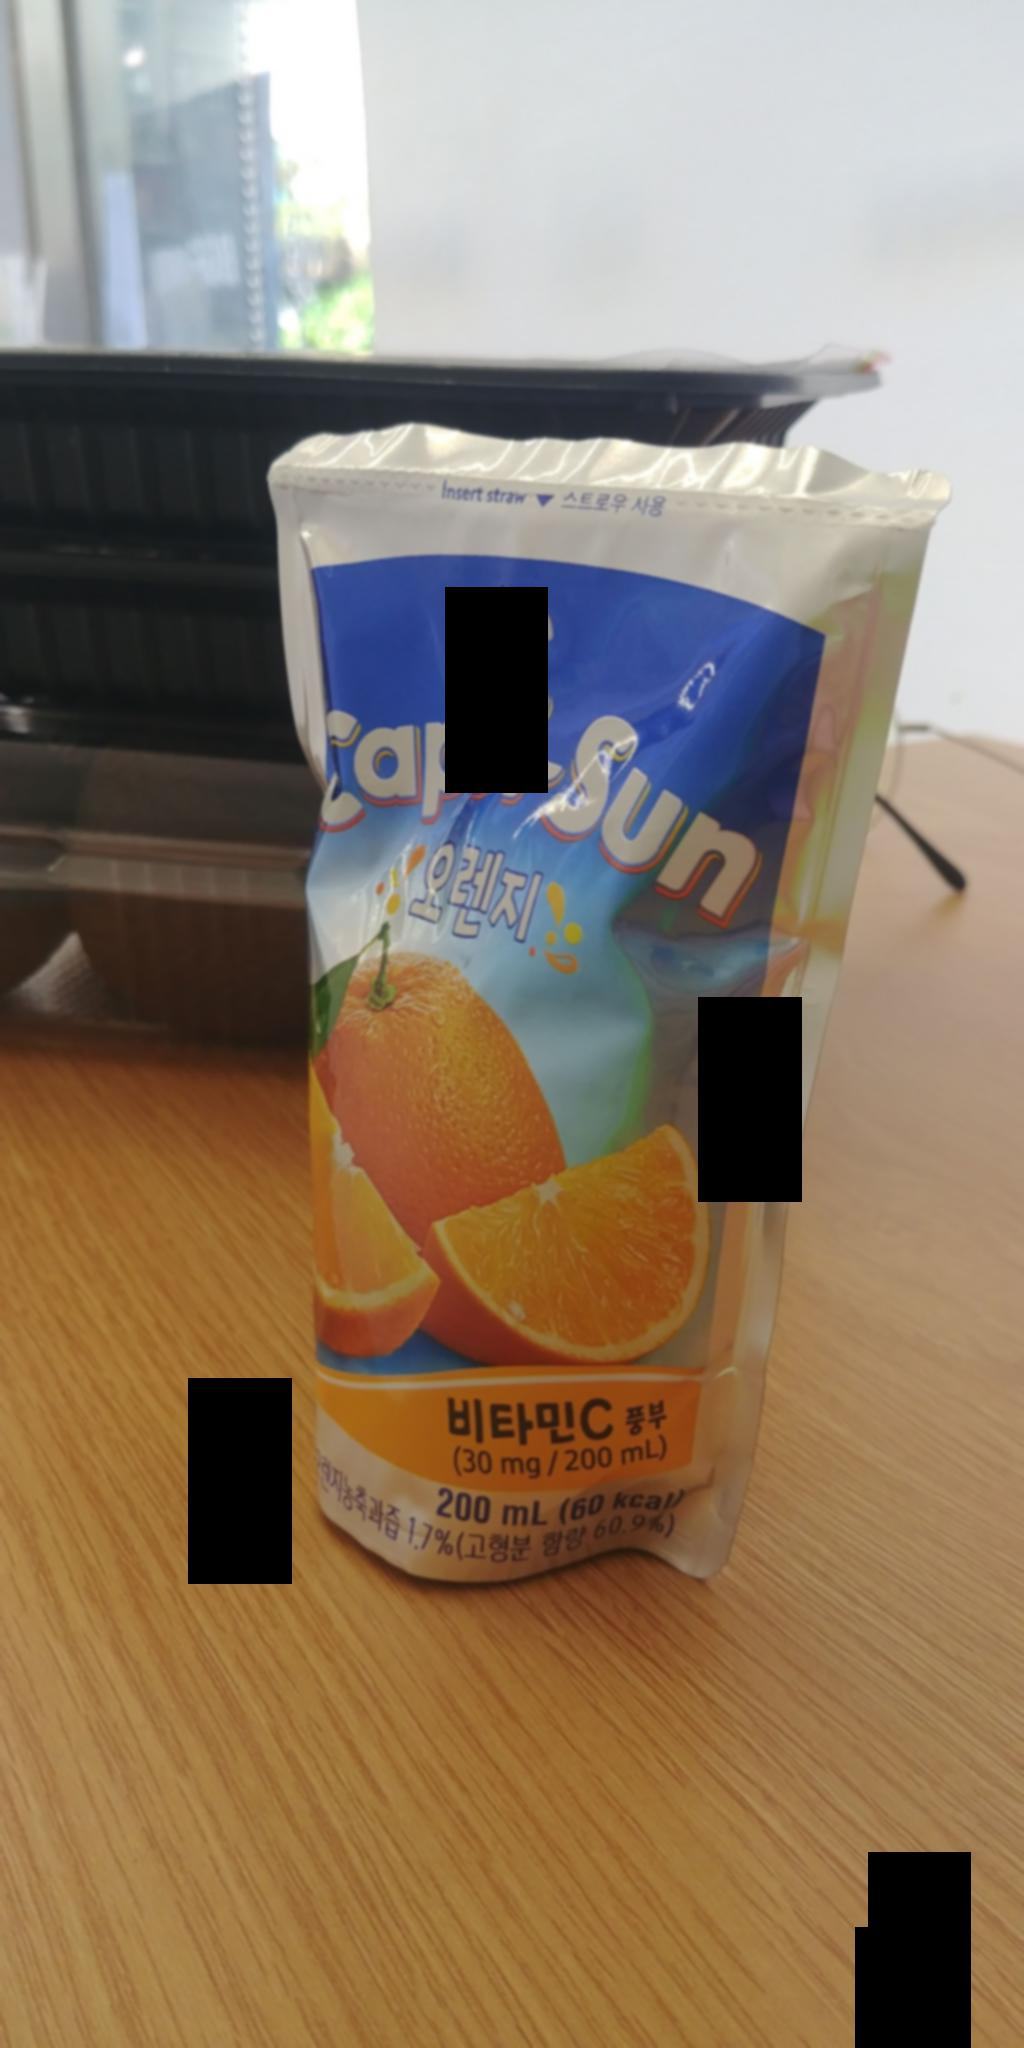cafrisun: (249, 396, 943, 1626)
